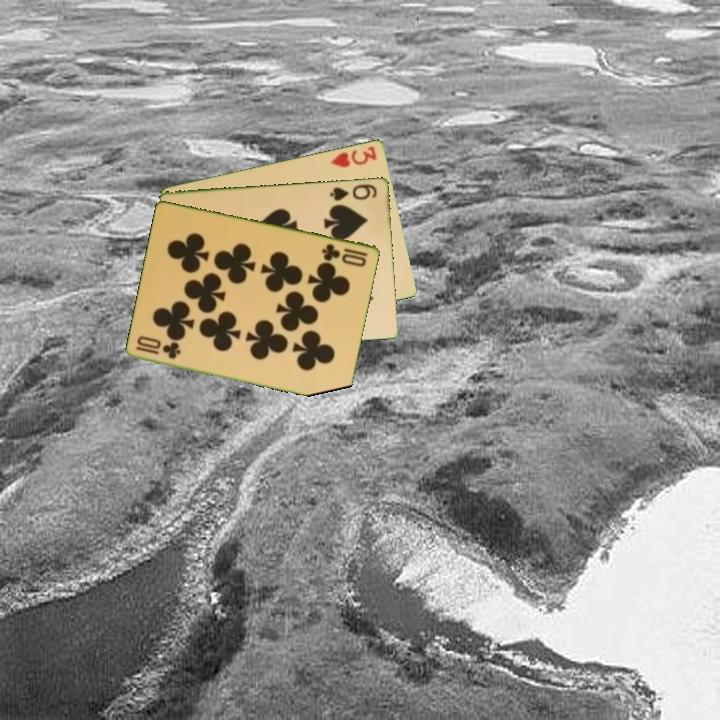10c: (319, 240, 371, 269), (132, 340, 184, 362)
3h: (328, 142, 380, 170)
6s: (327, 180, 380, 203)
